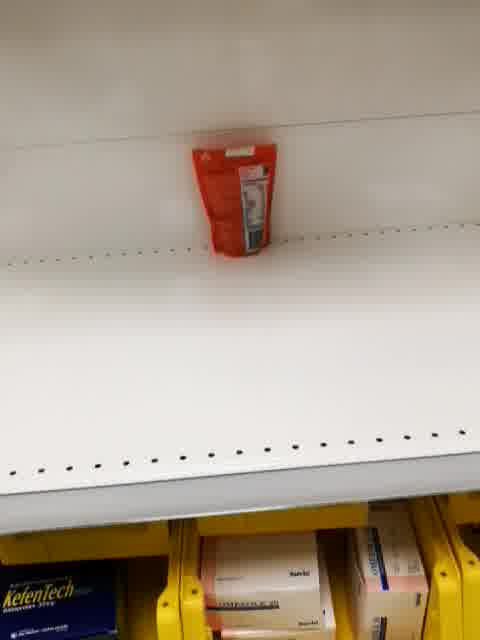whitechia: (188, 141, 283, 259)
